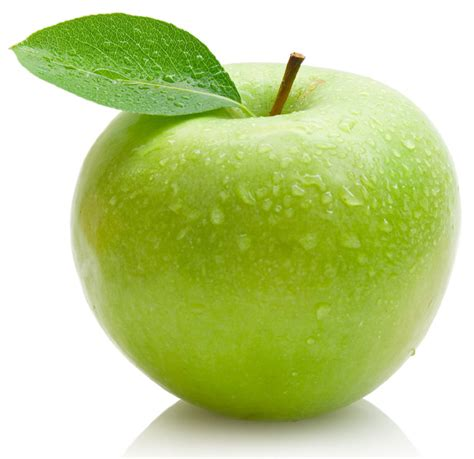apple: (68, 52, 460, 425)
